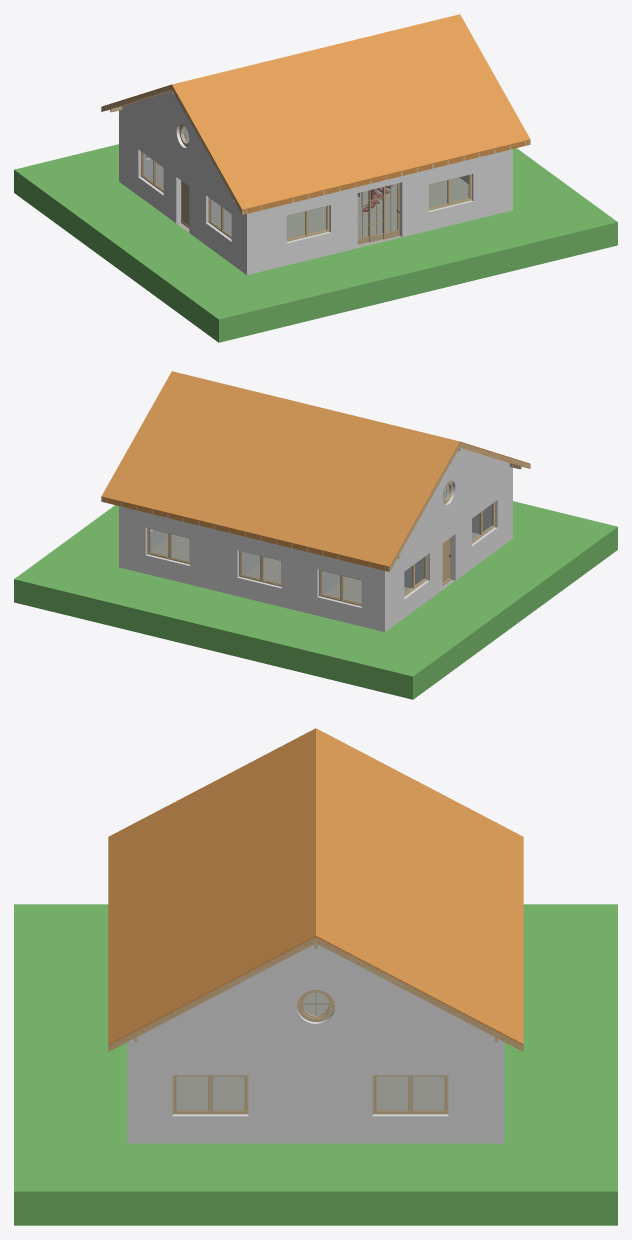
The model's file is AC20-FZK-Haus.ifc.glb.
The picture shows the model from 3 angles, top to bottom: view 1: azimuth 30°, elevation 25°; view 2: azimuth 150°, elevation 25°; view 3: azimuth 270°, elevation 25°; orthographic projection. The views are drawn at different scales.
Parts seen in each view (by area): view 1: 0KMpiAlnb52RgQuM1CwVfd, 2IxUUNUVPB6Ob$eicCfP2N, 16DNNqzfP2thtfaOflvsKA, 3rPX_Juz59peXXY6wDJl18, 0knNIAVBPBFvBy_m5QVHsU, 1pPHnf7cXCpPsNEnQf8_6B, 1M$gxUrX1Fiwe3P64ww7U5, 25nJxEpYf8LRDJNkMUVO0m, 3BFcylCsX74PQAoRAe5fNv, 0B1RwEzzP3CfME5NR$Vqh5, 1srAI$R4T8ihLXSNHmUSET; view 2: 0KMpiAlnb52RgQuM1CwVfd, 07Enbsqm9C7AQC9iyBwfSD, 1bzfVsJqn8De5PukCrqylz, 3rPX_Juz59peXXY6wDJl18, 0knNIAVBPBFvBy_m5QVHsU, 1pPHnf7cXCpPsNEnQf8_6B, 1TAI4ouKX4Xx4lBDZIu5qM, 1DiYqhfzH9xxuJdVHwXCNa, 2Q9w7oRXP249jBobEMVqlZ, 1srAI$R4T8ihLXSNHmUSET, 0B1RwEzzP3CfME5NR$Vqh5; view 3: 0KMpiAlnb52RgQuM1CwVfd, 07Enbsqm9C7AQC9iyBwfSD, 2IxUUNUVPB6Ob$eicCfP2N, 25fsbPyk15VvuXI$yNKenK, 3VCarUKgH1buLo22Ozxe6J, 1pPHnf7cXCpPsNEnQf8_6B, 13aSY79zb8fP4HApEJ0z_e, 2EQh_jhP1B_A_AMuSJc5E0, 2CxE0$jXr8iOH1VC2gLCXX, 2in0QvfYXEawl1f3MP1bq2, 2ACmFFQhT1Ouf0x4YRUh9m.
Boxes of the visible parts, <box> form: 0KMpiAlnb52RgQuM1CwVfd: <box>14,144,617,342</box>; 2IxUUNUVPB6Ob$eicCfP2N: <box>172,14,530,214</box>; 16DNNqzfP2thtfaOflvsKA: <box>247,149,512,274</box>; 3rPX_Juz59peXXY6wDJl18: <box>119,119,246,274</box>; 0knNIAVBPBFvBy_m5QVHsU: <box>119,91,236,204</box>; 1pPHnf7cXCpPsNEnQf8_6B: <box>149,174,468,247</box>; 1M$gxUrX1Fiwe3P64ww7U5: <box>357,183,399,244</box>; 25nJxEpYf8LRDJNkMUVO0m: <box>286,205,329,241</box>; 3BFcylCsX74PQAoRAe5fNv: <box>429,174,471,210</box>; 0B1RwEzzP3CfME5NR$Vqh5: <box>208,197,231,238</box>; 1srAI$R4T8ihLXSNHmUSET: <box>141,151,163,192</box>; 0KMpiAlnb52RgQuM1CwVfd: <box>14,501,617,699</box>; 07Enbsqm9C7AQC9iyBwfSD: <box>101,371,459,571</box>; 1bzfVsJqn8De5PukCrqylz: <box>119,506,384,631</box>; 3rPX_Juz59peXXY6wDJl18: <box>385,476,512,631</box>; 0knNIAVBPBFvBy_m5QVHsU: <box>395,448,512,561</box>; 1pPHnf7cXCpPsNEnQf8_6B: <box>150,532,479,603</box>; 1TAI4ouKX4Xx4lBDZIu5qM: <box>319,570,361,606</box>; 1DiYqhfzH9xxuJdVHwXCNa: <box>147,528,189,564</box>; 2Q9w7oRXP249jBobEMVqlZ: <box>239,550,281,586</box>; 1srAI$R4T8ihLXSNHmUSET: <box>404,555,427,596</box>; 0B1RwEzzP3CfME5NR$Vqh5: <box>472,502,494,543</box>; 0KMpiAlnb52RgQuM1CwVfd: <box>14,904,617,1225</box>; 07Enbsqm9C7AQC9iyBwfSD: <box>316,728,523,1051</box>; 2IxUUNUVPB6Ob$eicCfP2N: <box>108,728,315,1051</box>; 25fsbPyk15VvuXI$yNKenK: <box>127,1051,504,1143</box>; 3VCarUKgH1buLo22Ozxe6J: <box>127,944,504,1051</box>; 1pPHnf7cXCpPsNEnQf8_6B: <box>176,1076,444,1109</box>; 13aSY79zb8fP4HApEJ0z_e: <box>372,1075,448,1114</box>; 2EQh_jhP1B_A_AMuSJc5E0: <box>172,1075,248,1114</box>; 2CxE0$jXr8iOH1VC2gLCXX: <box>316,937,523,1051</box>; 2in0QvfYXEawl1f3MP1bq2: <box>108,937,315,1051</box>; 2ACmFFQhT1Ouf0x4YRUh9m: <box>297,989,334,1021</box>.
Size of the model in its own units: 18 by 7.32 by 16.
